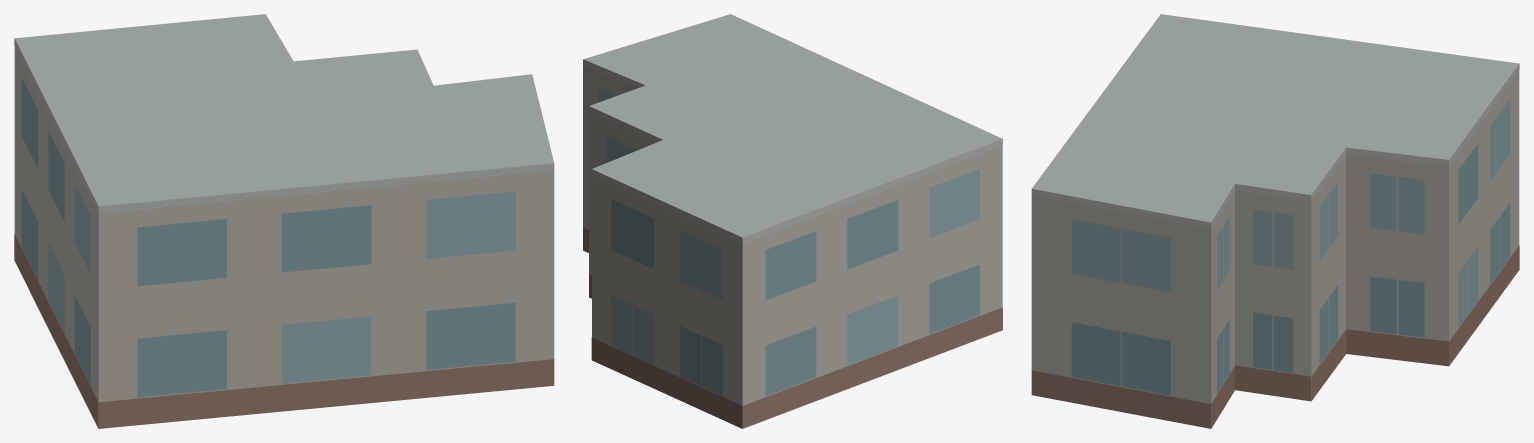
File: survey-upis-32962847.glb
3 renders of one model, left to right at view 1: azimuth 30°, elevation 25°; view 2: azimuth 150°, elevation 25°; view 3: azimuth 270°, elevation 25°, orthographic. The views are drawn at different scales.
Visible parts, largest first — view 1: survey-upis-32962847.tmp; view 2: survey-upis-32962847.tmp; view 3: survey-upis-32962847.tmp.
Boxes of the visible parts, x1,y1,x2,y2 form: survey-upis-32962847.tmp: [14, 14, 554, 428]; survey-upis-32962847.tmp: [583, 14, 1002, 428]; survey-upis-32962847.tmp: [1031, 14, 1519, 428].
Size of the model in its own units: 16.27 by 7.5 by 16.08.
